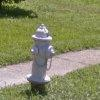Hydrant: (16, 17, 59, 86)
